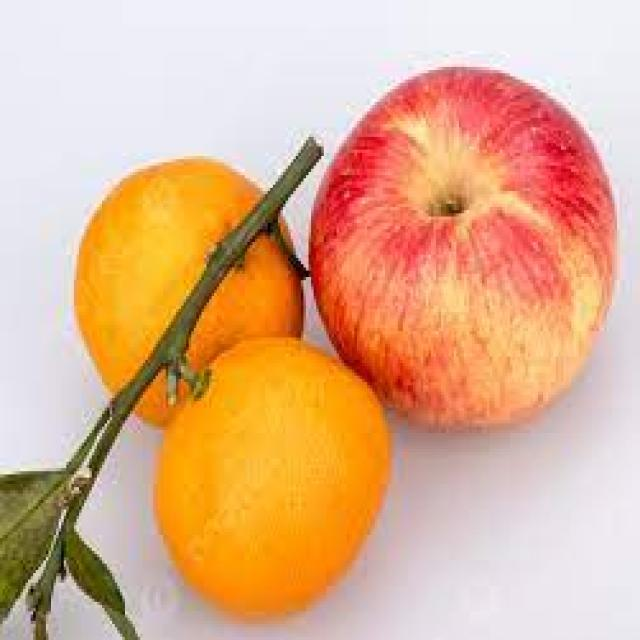non_orange: (301, 49, 627, 458)
